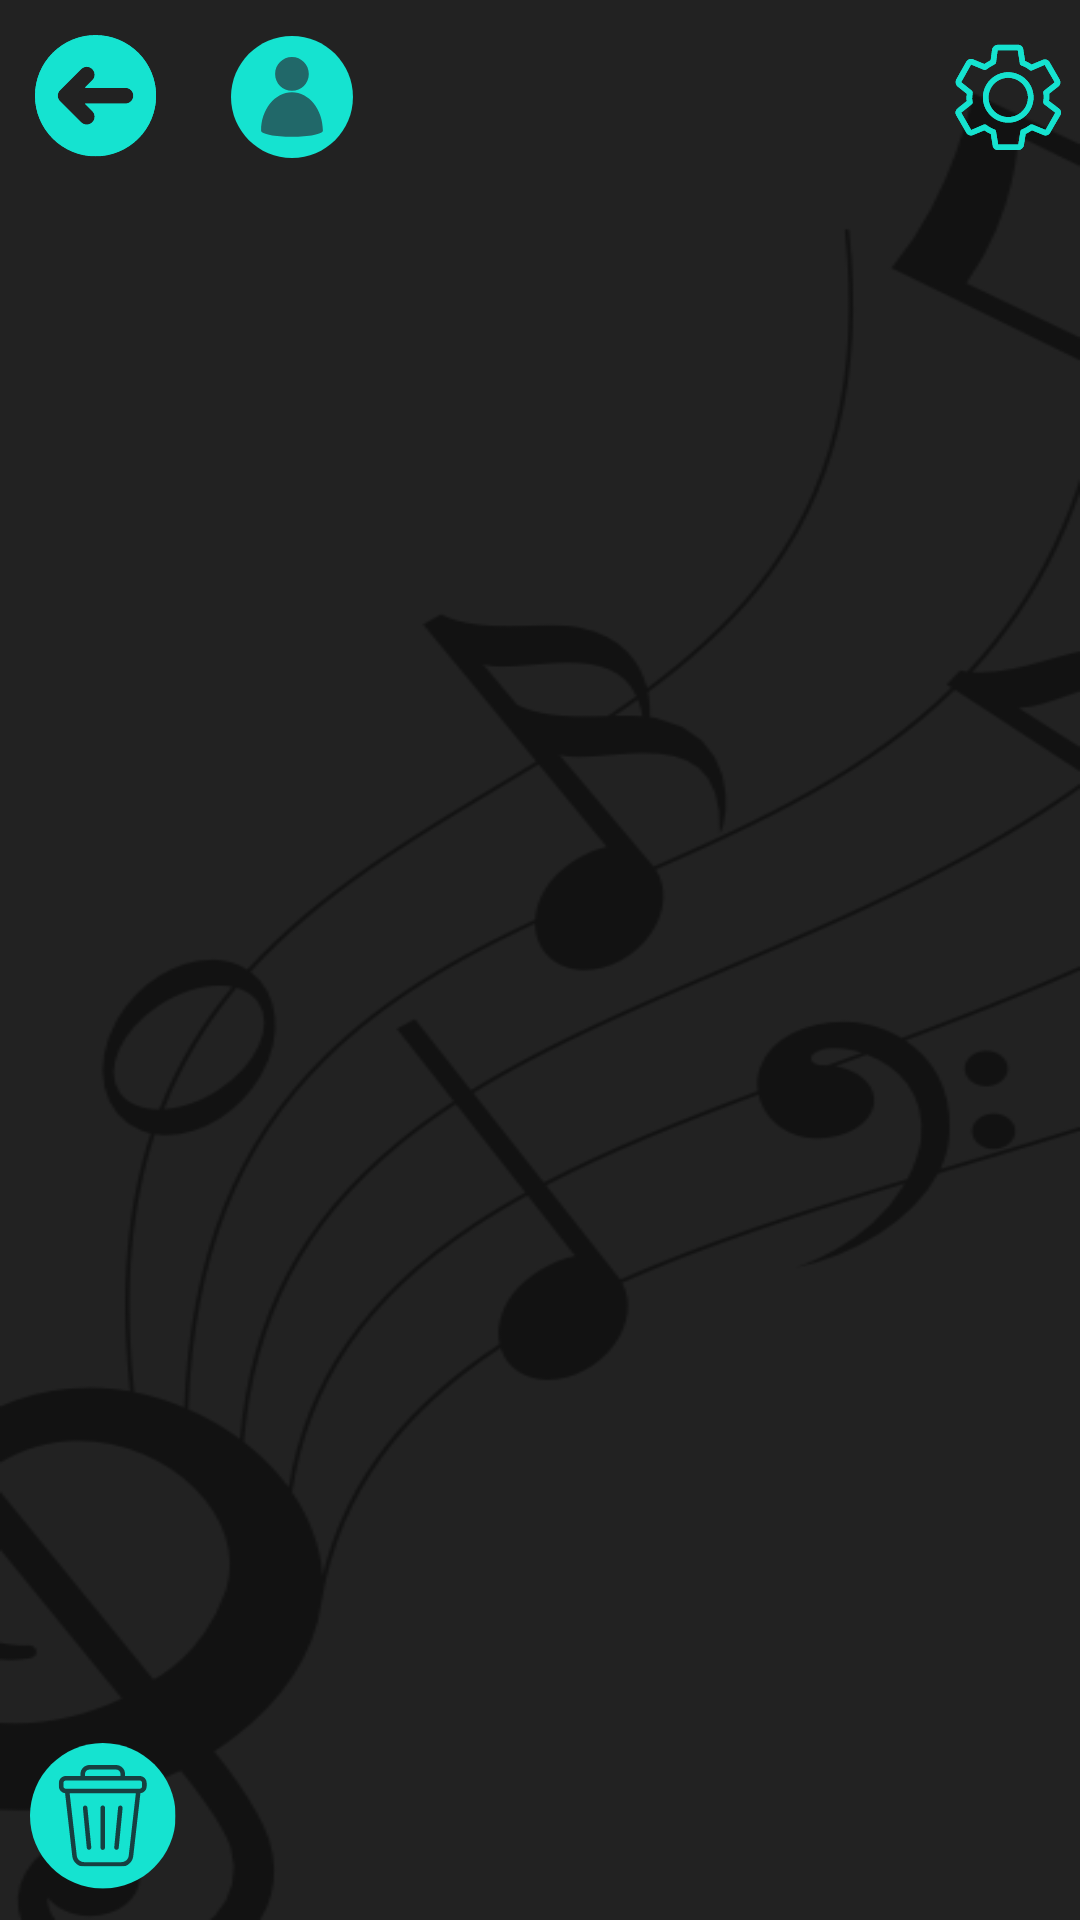

Screen size 1080px×1920px. Icon name, then its center in pixels as (x=x, y=y):
back: (x=95, y=96)
delete chat note: (x=103, y=1816)
profile: (x=292, y=97)
settings: (x=1008, y=97)
